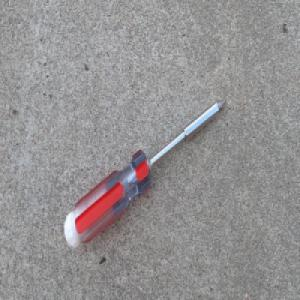Screwdriver: (62, 97, 228, 250)
